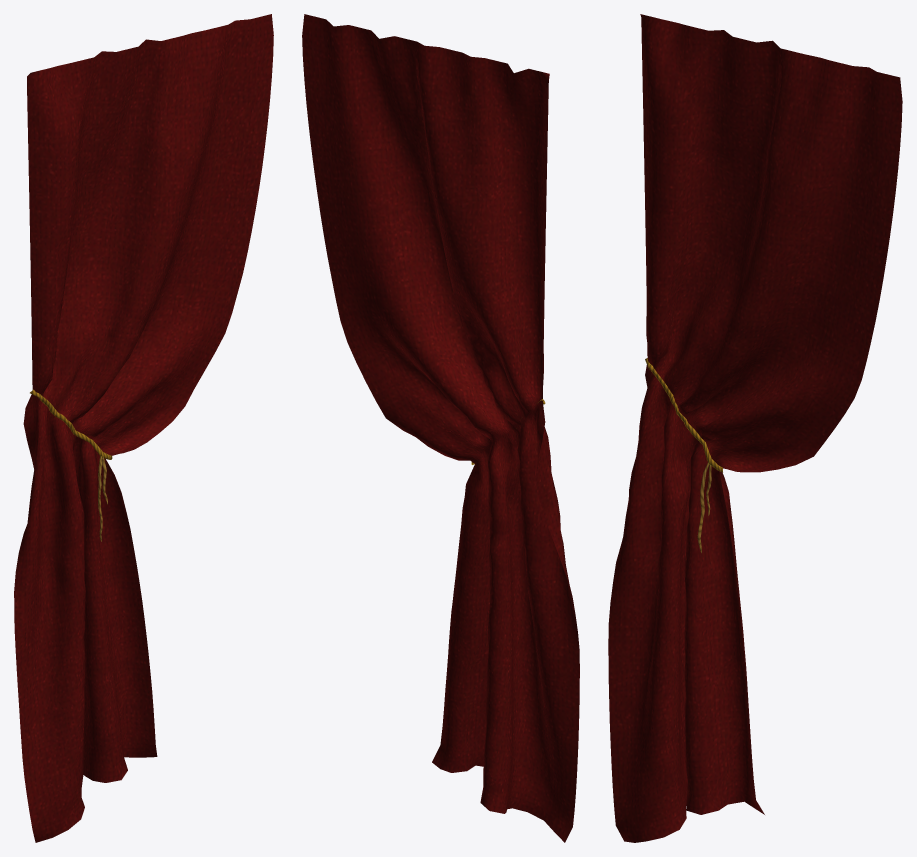
Rendered from Modeling_Curtain_L.FBX.
The picture shows the model from 3 angles, left to right: view 1: azimuth 30°, elevation 25°; view 2: azimuth 150°, elevation 25°; view 3: azimuth 330°, elevation 25°; orthographic projection. The views are drawn at different scales.
Parts seen in each view (by area): view 1: Modeling_curtain_3_L; view 2: Modeling_curtain_3_L; view 3: Modeling_curtain_3_L.
Part boxes in pixels (<box>): Modeling_curtain_3_L: <box>14,14,273,842</box>; Modeling_curtain_3_L: <box>302,14,579,842</box>; Modeling_curtain_3_L: <box>608,14,902,842</box>.
Size of the model in its own units: 235 by 646 by 54.16.
